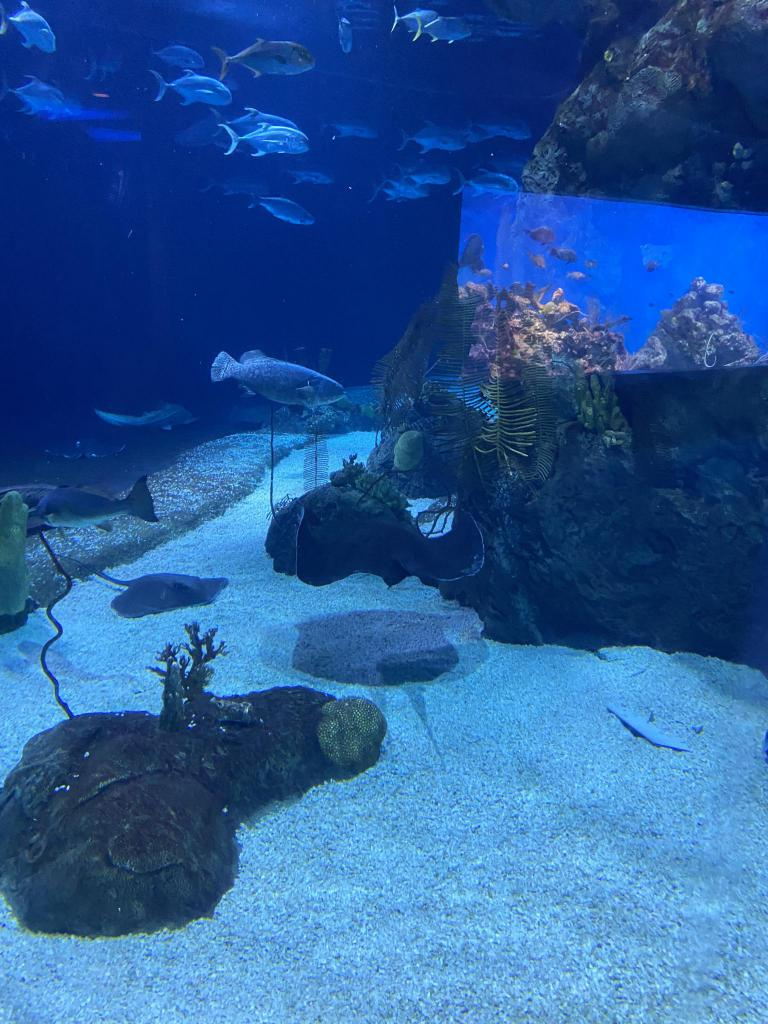fish: (210, 350, 346, 406), (34, 474, 158, 534), (212, 38, 314, 84), (148, 68, 232, 108), (217, 122, 309, 158), (0, 72, 68, 120), (0, 2, 57, 55), (94, 402, 198, 430), (246, 191, 314, 227), (452, 164, 518, 200), (209, 108, 299, 134), (397, 121, 465, 155), (467, 109, 532, 141), (412, 13, 472, 45), (318, 112, 378, 142), (146, 42, 206, 72), (377, 168, 430, 200), (392, 160, 448, 188), (391, 5, 443, 35), (364, 180, 412, 204), (282, 164, 334, 186), (337, 14, 353, 54)
stingray: (289, 502, 485, 586), (109, 572, 228, 618)
